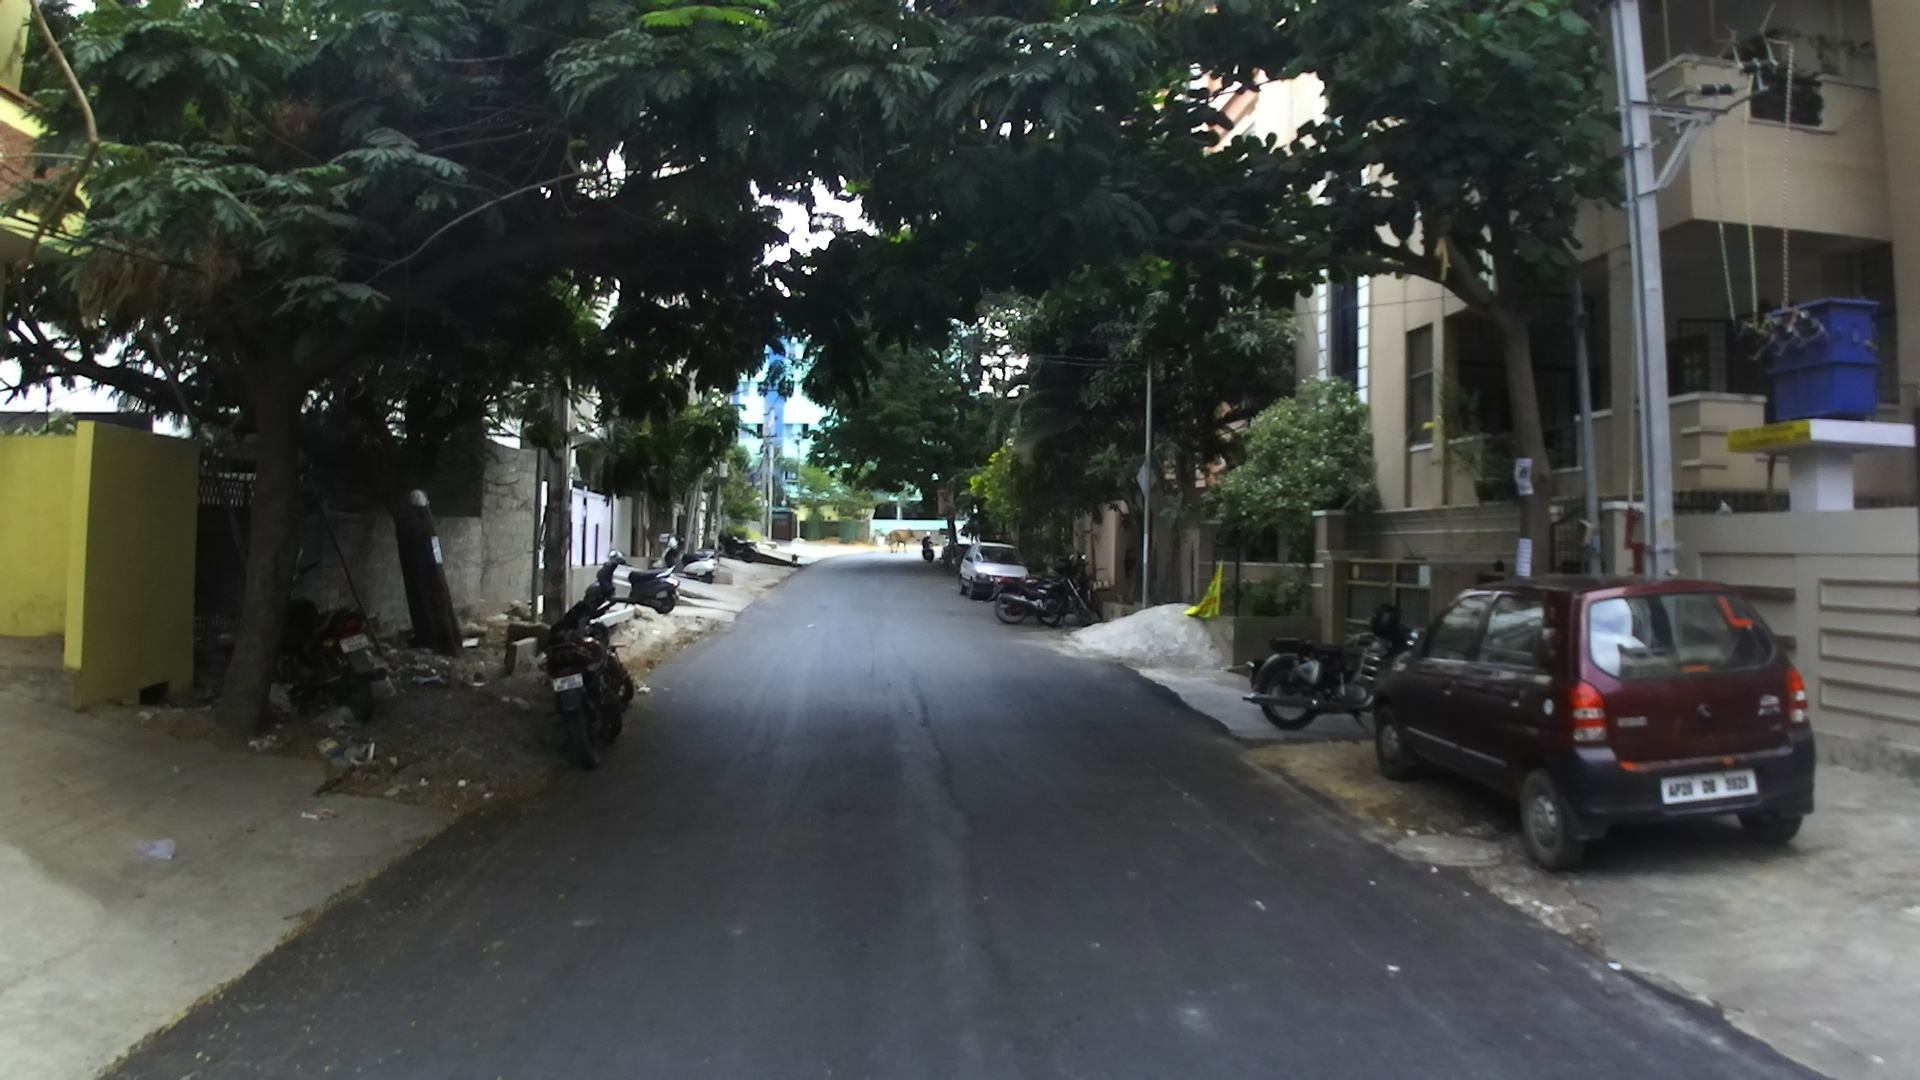vehicle: (1365, 578, 1818, 873), (545, 612, 636, 770), (957, 545, 1033, 601), (676, 553, 719, 585)
